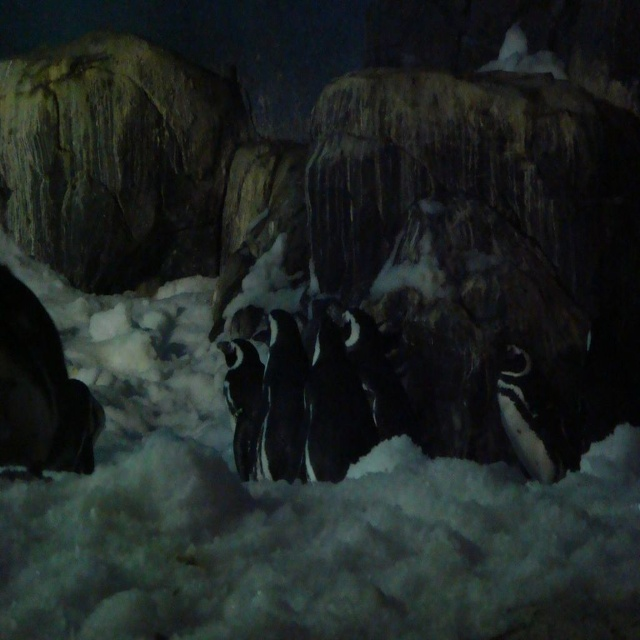Penguin: (212, 307, 423, 485), (484, 321, 584, 489)
